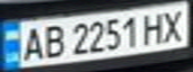1: (121, 14, 142, 48)
2: (66, 19, 90, 56), (87, 17, 109, 54)
5: (103, 16, 127, 52)
A: (15, 24, 48, 62)
B: (39, 22, 69, 60)
H: (139, 10, 169, 45)
X: (157, 6, 193, 43)
